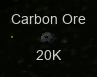Carbon: (11, 13, 87, 63)
